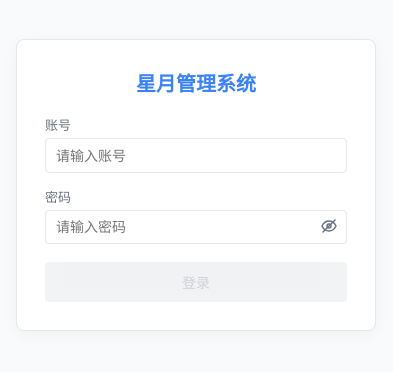
Test case: Login › 404 (账号不存在):展示后端 error 文案
Type "nobody" into the field with test id "account-input" at (196, 156), box left=45, top=138, right=347, bottom=173
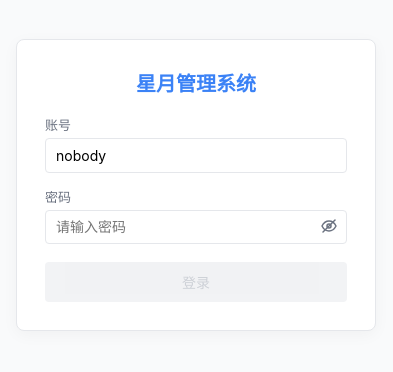
Type "x" into the password field with test id "password-input" at (196, 227), box left=45, top=210, right=347, bottom=244
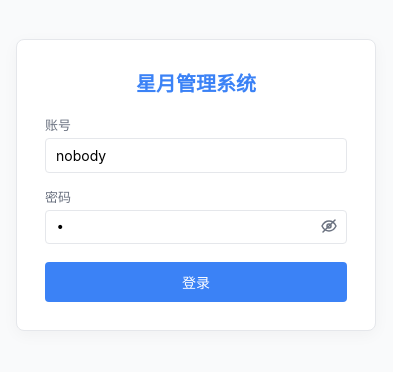
Click the button with test id "login-submit" at (196, 282), box left=45, top=262, right=347, bottom=302
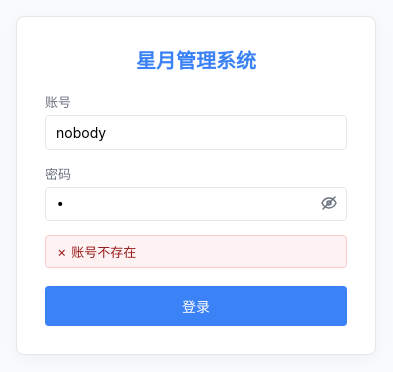
Result: the message with test id "login-error" shows "账号不存在" at left=71, top=244, right=136, bottom=260
